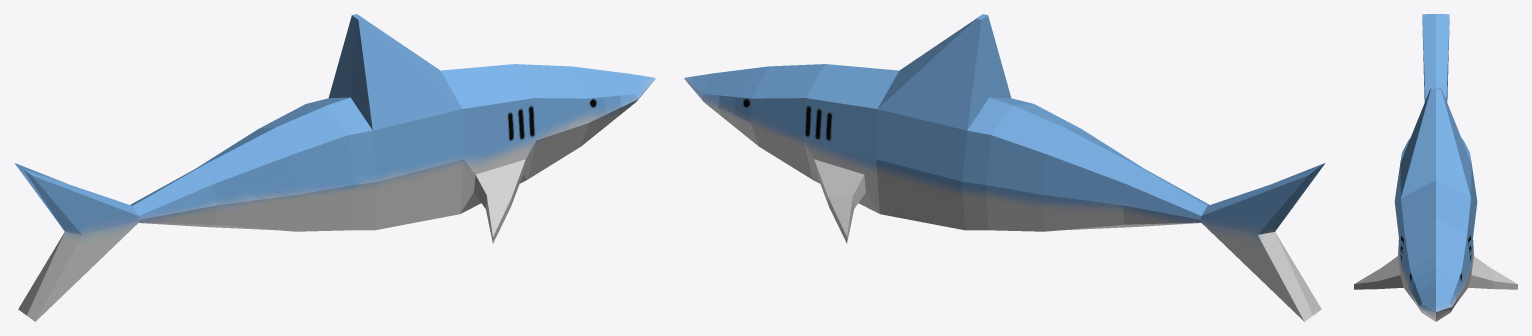
File: Shark.fbx
3 views of the same model, side by side, from view 1: azimuth 30°, elevation 25°; view 2: azimuth 150°, elevation 25°; view 3: azimuth 270°, elevation 25° (orthographic). The views are drawn at different scales.
Visible parts, largest first — view 1: Shark; view 2: Shark; view 3: Shark.
Part boxes in pixels (box(x1,y1,x2,y2)): Shark: box(14, 14, 655, 321); Shark: box(684, 14, 1325, 321); Shark: box(1354, 14, 1517, 321).
Bounding box in the file's own units: 4.6 × 1.51 × 1.29.
1 material, 1 textured.
